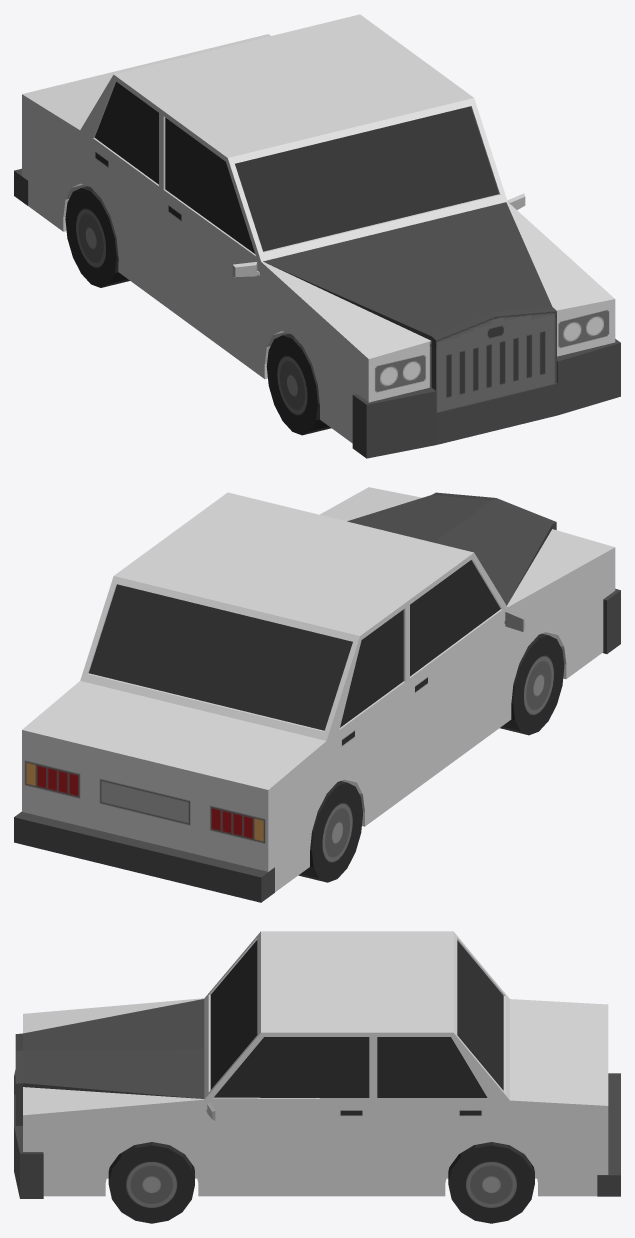
Rendered from car_v2.gltf.
3 views of the same model, one above another, from view 1: azimuth 30°, elevation 25°; view 2: azimuth 150°, elevation 25°; view 3: azimuth 270°, elevation 25° (orthographic). The views are drawn at different scales.
Parts seen in each view (by area): view 1: car_v2; view 2: car_v2; view 3: car_v2.
Part boxes in pixels (bbox=[...]): car_v2: bbox=[14, 14, 620, 458]; car_v2: bbox=[14, 487, 620, 902]; car_v2: bbox=[14, 931, 620, 1223].
Bounding box in the file's own units: 2.96 × 2.2 × 6.32.
Materials: 1 (1 with a texture image).
